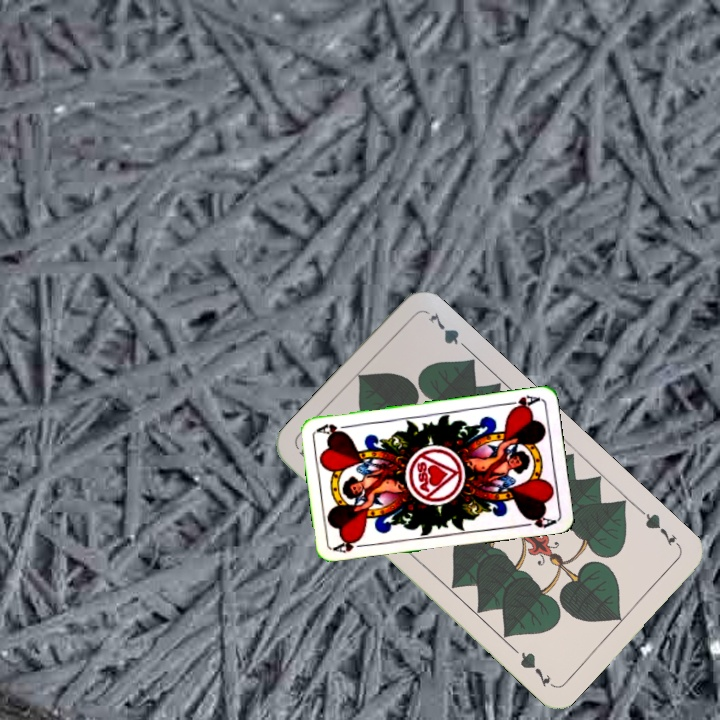G7: (636, 505, 683, 550)
HA: (501, 391, 542, 413), (330, 535, 371, 555)
